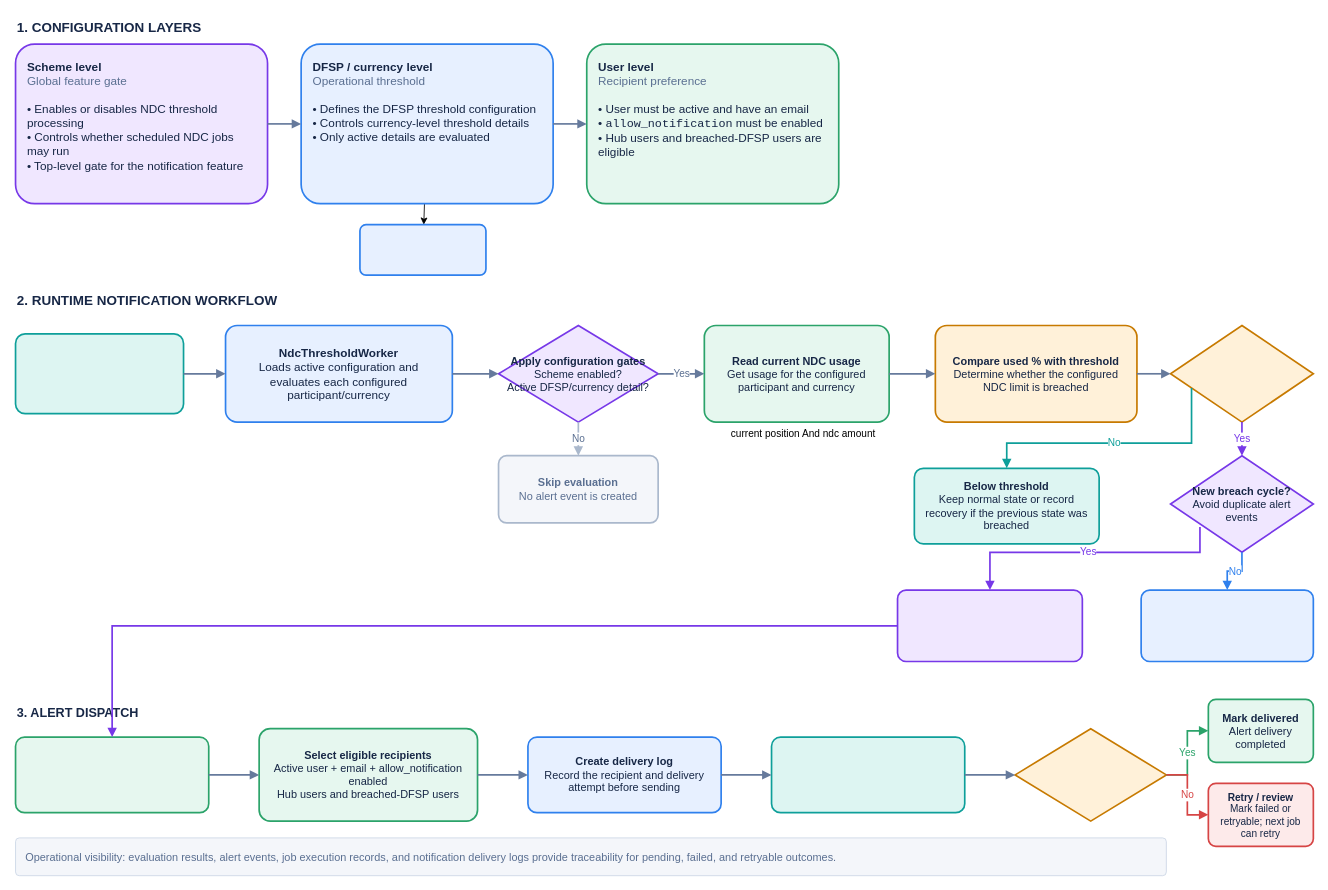
Some shapes in this 1328 by 890 pixel diagram are drawn without their labels. Each missing label, with the centre of its shape:
"Breached? used % ≥ configured threshold" goes at point (1241, 373).
"Create alert event One event represents the new breach cycle" goes at point (989, 625).
"Delivery successful?" goes at point (1090, 774).
"Duplicate breach Keep breached state and suppress duplicate alert" goes at point (1227, 625).
"NDC Thresholds" goes at point (422, 249).
"NdcNotificationDispatcher Finds undispatched alert events" goes at point (111, 774).
"Scheduled job Runs on the configured schedule" goes at point (99, 373).
"Send notification Email delivery is attempted for each eligible recipient" goes at point (867, 774).
